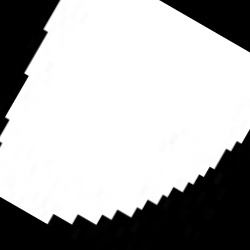spot: (1, 2, 248, 225)
